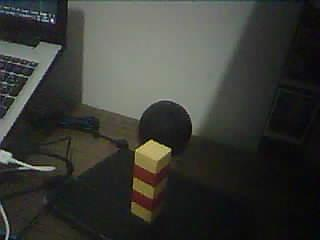lego: (130, 138, 172, 224)
